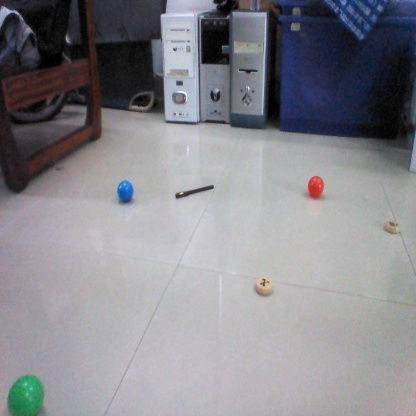ball: (5, 375, 49, 414), (307, 174, 327, 197), (115, 179, 136, 200)
chess: (255, 277, 274, 293), (382, 219, 403, 233)
pen: (177, 182, 215, 197)
